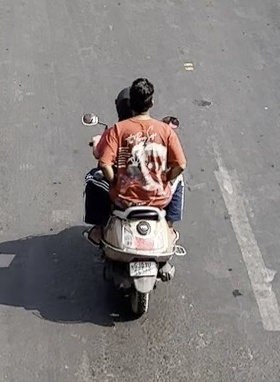BikeWithRider: (72, 71, 195, 320)
Helmet: (110, 83, 141, 123)
NoHelmet: (126, 75, 158, 118)
